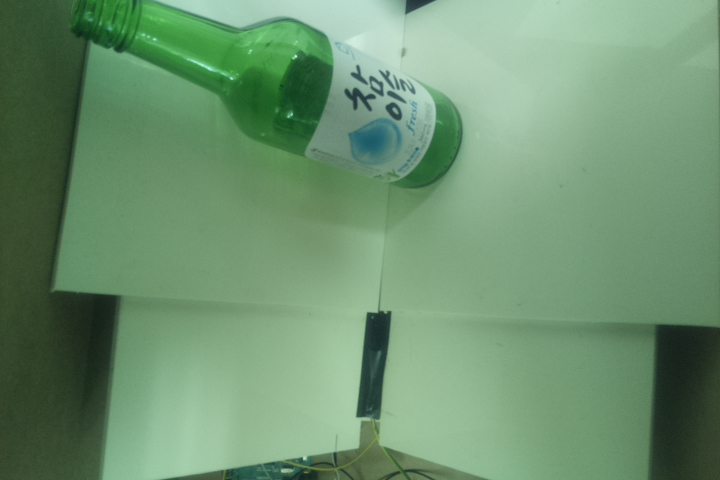soju: (69, 1, 467, 193)
